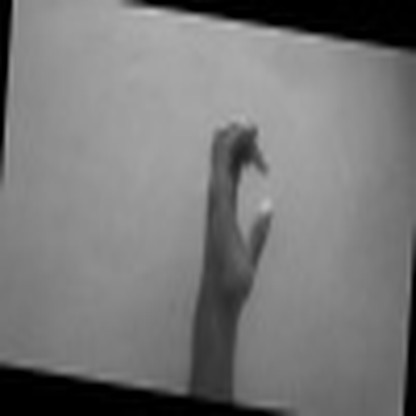c: (197, 112, 283, 315)
